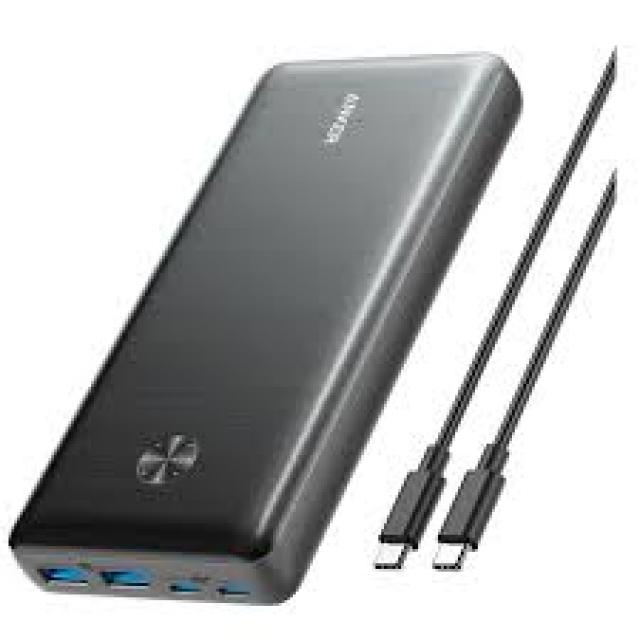non-organic waste: (8, 50, 526, 603)
